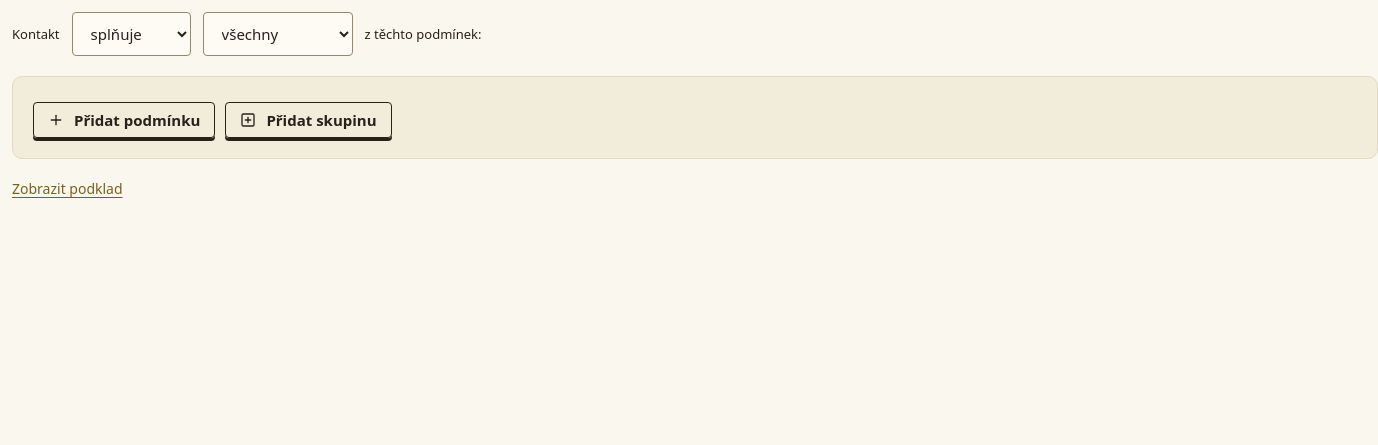
Test case: QueryBuilder › umí zobrazit podkladový JSON a je to tvar ze specifikace
The width and height of the screenshot is (1378, 445).
Click the button "Zobrazit podklad" at [67, 189], box [12,179,123,199]
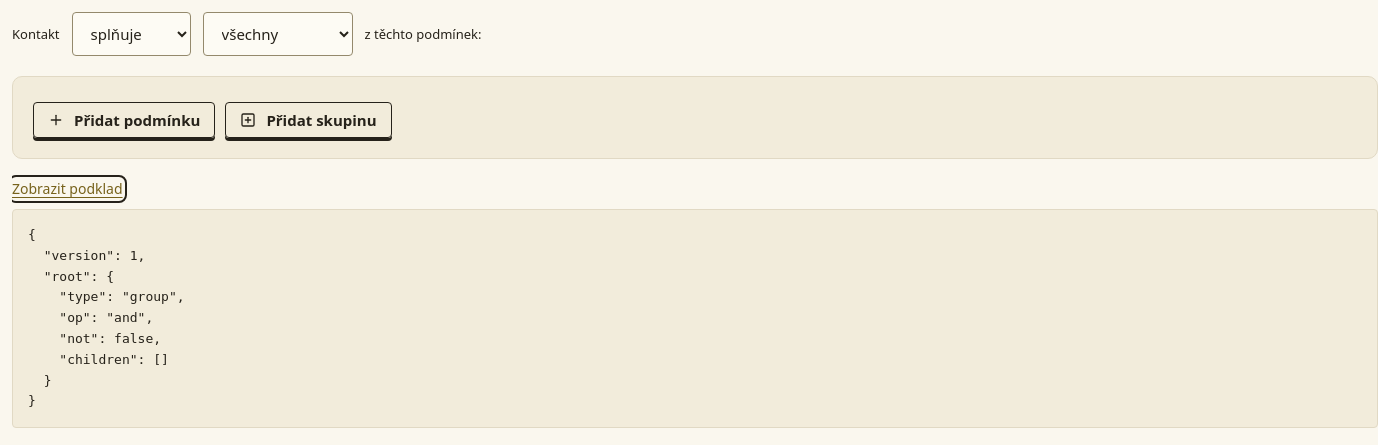
Expected: the text "\"version\": 1" is shown, [28,227,184,408]
Expected: the text "\"type\": \"group\"" is shown, [28,227,184,408]
